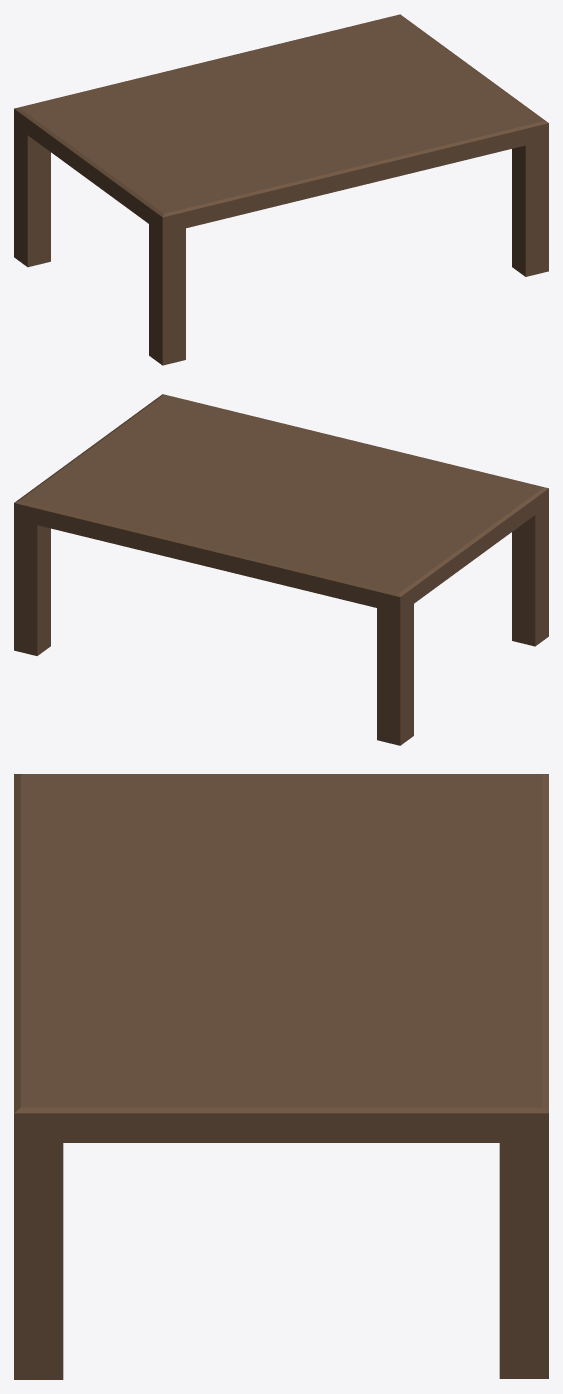
File: TableLong.fbx
3 views of the same model, one above another, from view 1: azimuth 30°, elevation 25°; view 2: azimuth 150°, elevation 25°; view 3: azimuth 270°, elevation 25° (orthographic). The views are drawn at different scales.
Visible parts, largest first — view 1: TableLong; view 2: TableLong; view 3: TableLong.
Part boxes in pixels (x1=…): TableLong: x1=14, y1=14, x2=548, y2=365; TableLong: x1=14, y1=394, x2=548, y2=745; TableLong: x1=14, y1=774, x2=548, y2=1379.
Bounding box in the file's own units: 3 × 1.12 × 2.
Materials: 1 (1 with a texture image).
